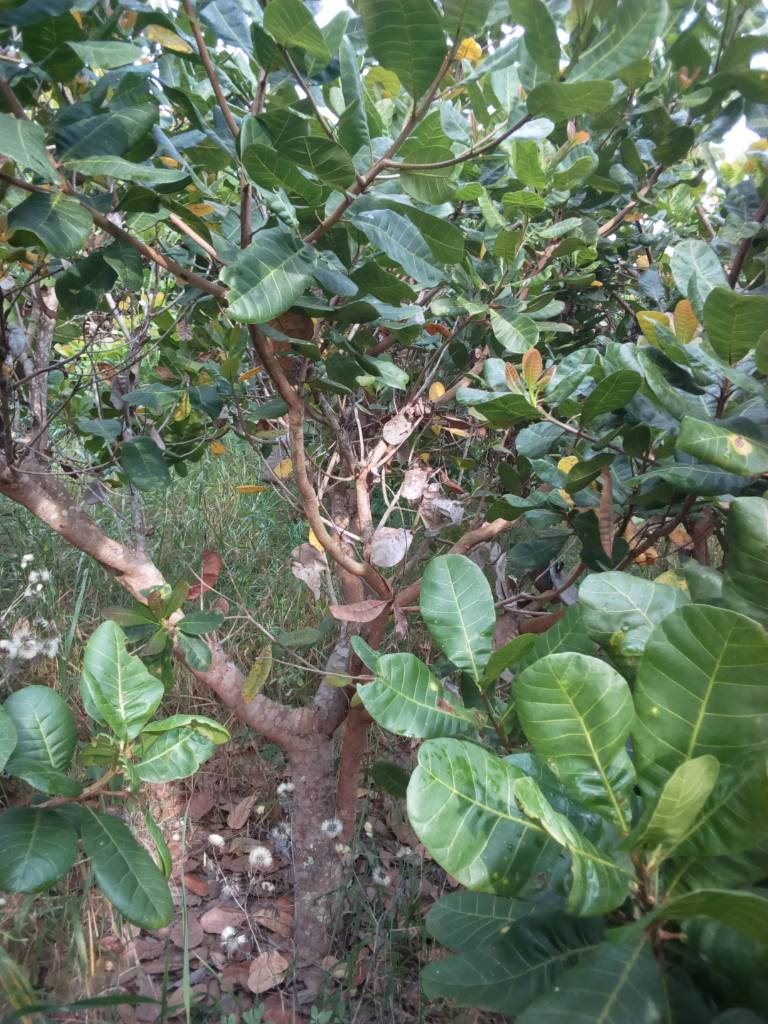Dessèchement des bourgeons: (558, 220, 638, 354)
